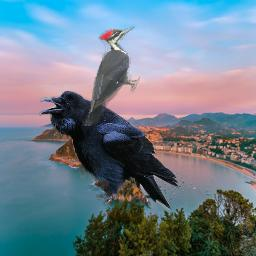Crow: (39, 90, 179, 211)
Woodpecker: (82, 24, 140, 126)
